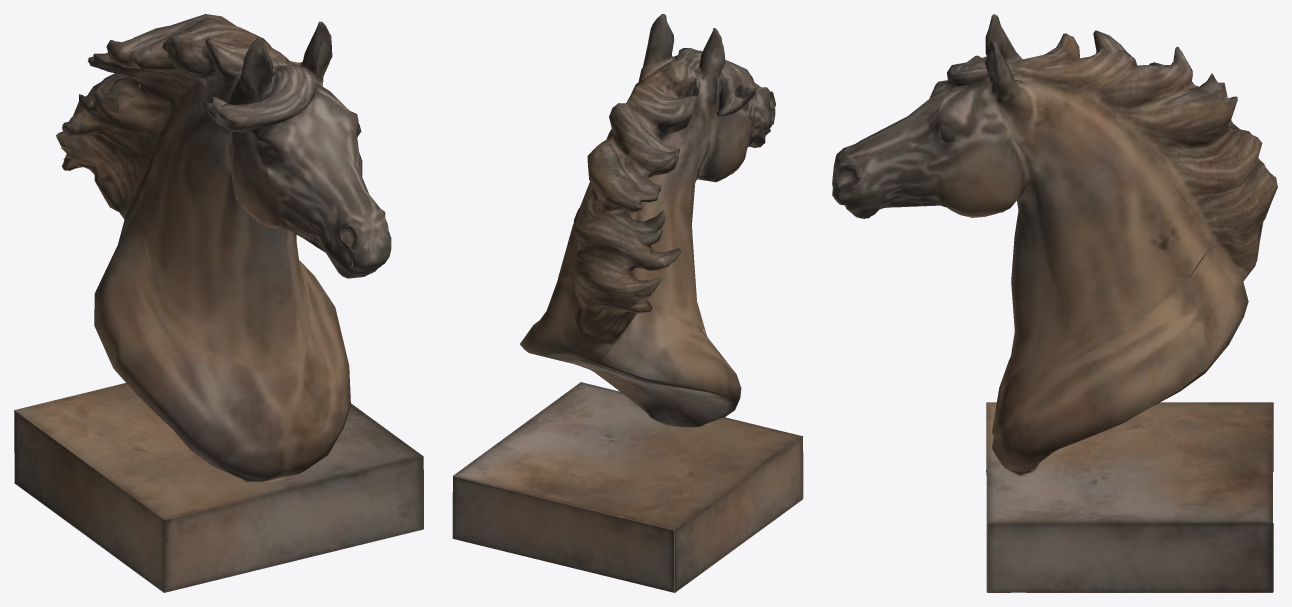
File: horse_head.glb
The picture shows the model from 3 angles, left to right: view 1: azimuth 30°, elevation 25°; view 2: azimuth 150°, elevation 25°; view 3: azimuth 270°, elevation 25°; orthographic projection. The views are drawn at different scales.
Visible parts, largest first — view 1: horse_head; view 2: horse_head; view 3: horse_head.
Boxes of the visible parts, x1,y1,x2,y2 form: horse_head: [14, 14, 423, 592]; horse_head: [452, 14, 803, 592]; horse_head: [832, 14, 1277, 592].
Size of the model in its own units: 0.215 by 0.4178 by 0.3341.
Materials: 1 (1 with a texture image).
